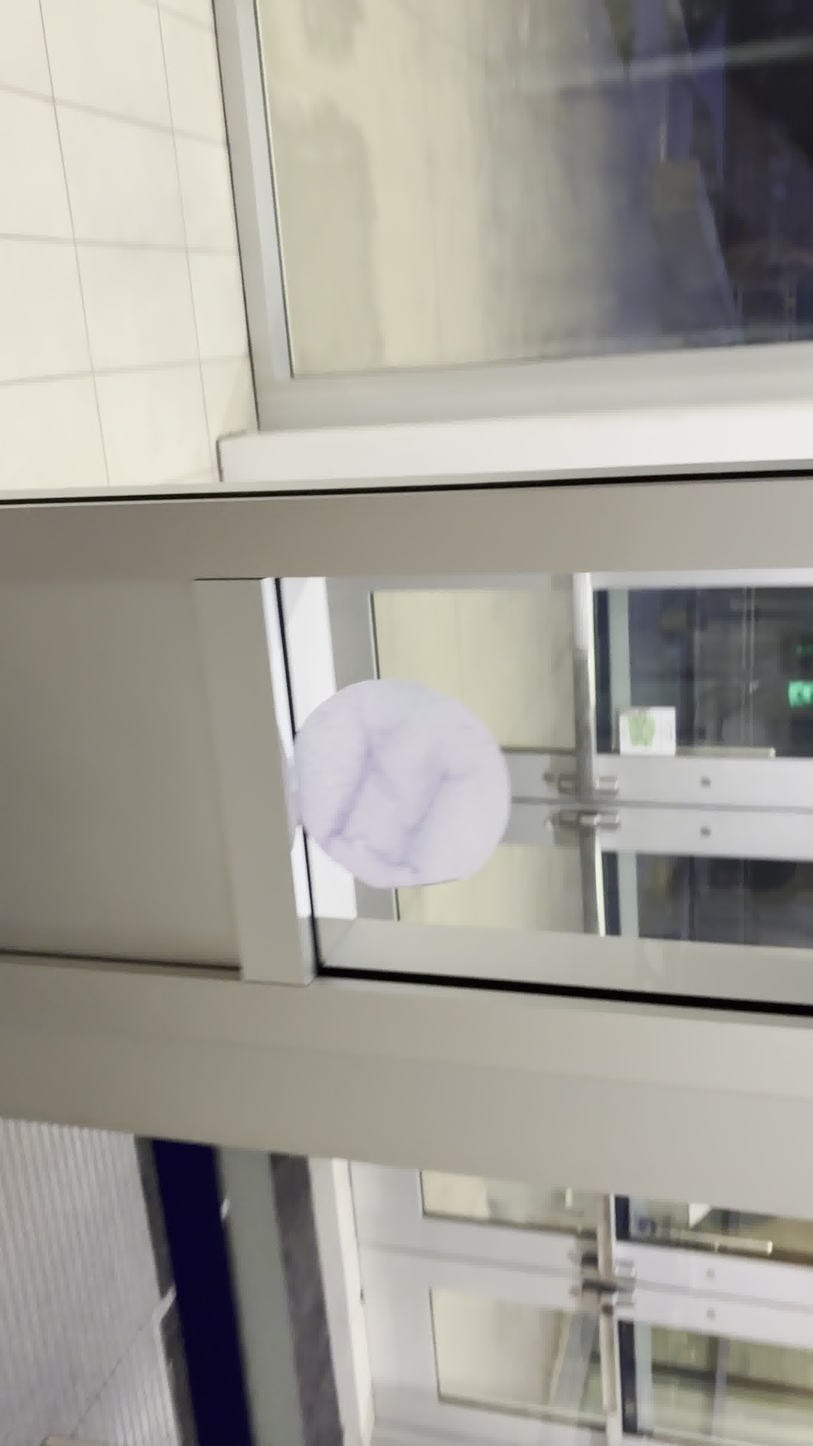Target: (278, 671, 518, 897)
